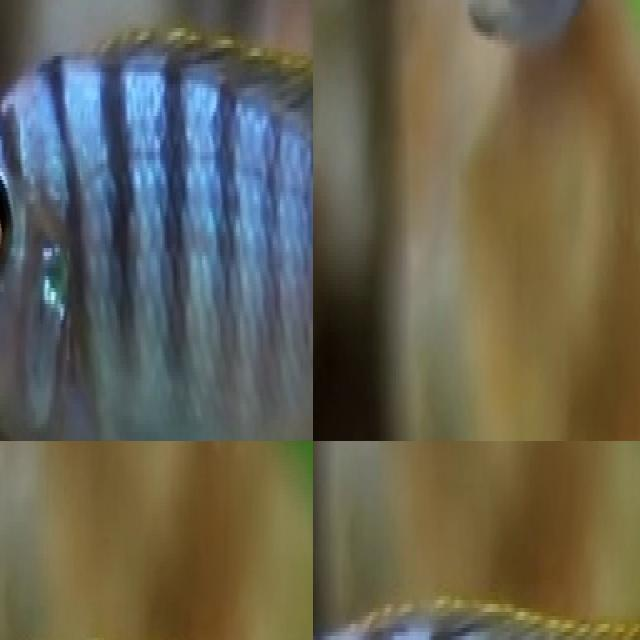fish: (0, 0, 313, 441), (446, 0, 640, 88)
